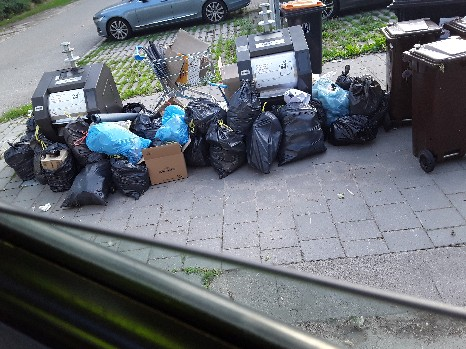Container: (229, 29, 310, 84), (43, 70, 124, 123)
Papier: (148, 148, 188, 185)
Rest: (326, 112, 395, 166), (152, 49, 214, 97), (63, 135, 109, 199), (267, 96, 316, 154), (348, 80, 394, 129), (157, 109, 203, 157), (203, 117, 249, 164), (32, 137, 77, 182), (87, 131, 150, 162), (115, 163, 162, 203), (244, 114, 269, 175), (184, 95, 225, 129), (216, 89, 264, 118), (136, 106, 171, 139), (7, 139, 40, 171), (313, 84, 342, 115), (334, 67, 358, 99)
